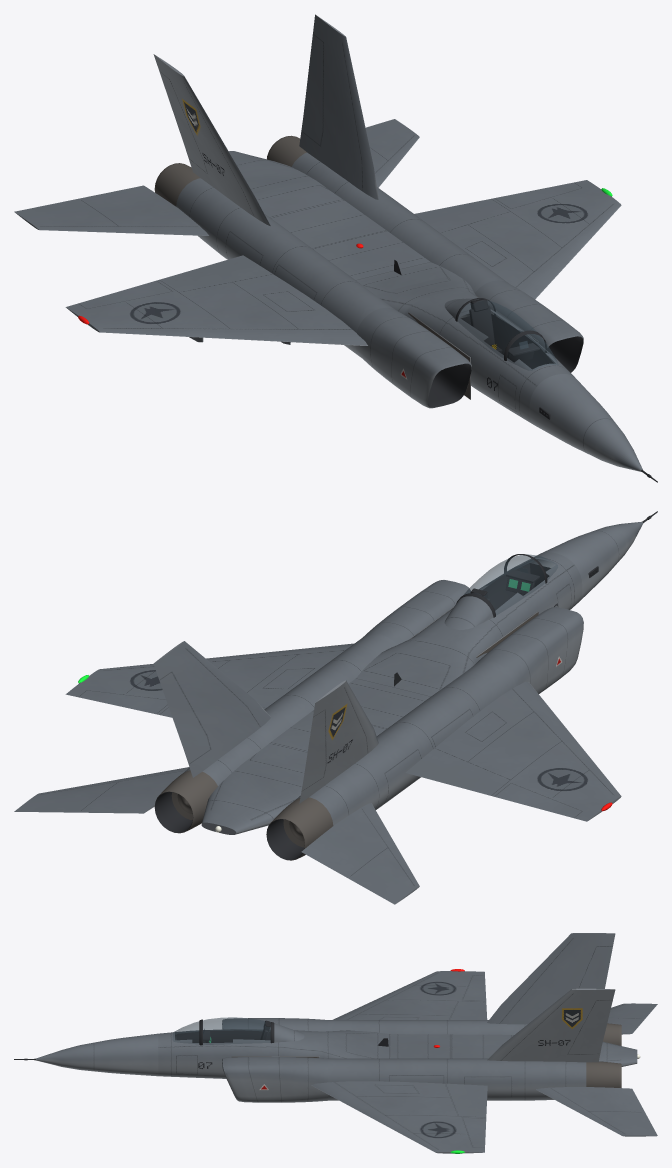
Rendered from SteelHawk_Fighter_LOD1.fbx.
The picture shows the model from 3 angles, top to bottom: view 1: azimuth 30°, elevation 25°; view 2: azimuth 150°, elevation 25°; view 3: azimuth 270°, elevation 25°; orthographic projection. The views are drawn at different scales.
Visible parts, largest first — view 1: SteelHawk_LOD1; view 2: SteelHawk_LOD1; view 3: SteelHawk_LOD1.
Boxes of the visible parts, x1=… form: SteelHawk_LOD1: x1=14, y1=14, x2=657, y2=482; SteelHawk_LOD1: x1=14, y1=511, x2=657, y2=904; SteelHawk_LOD1: x1=14, y1=933, x2=657, y2=1153.
Bounding box in the file's own units: 12.75 × 3.92 × 18.96.
Materials: 6 (3 with a texture image).
